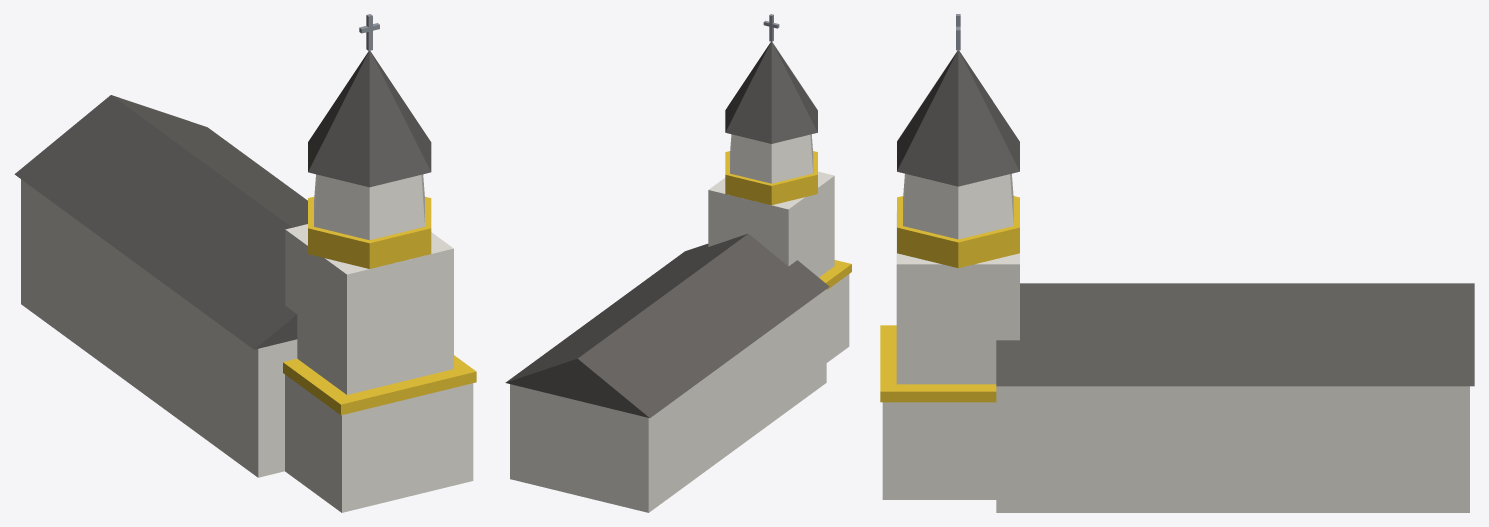
The model's file is iglesia_chilota.obj.
3 renders of one model, left to right at view 1: azimuth 30°, elevation 25°; view 2: azimuth 150°, elevation 25°; view 3: azimuth 270°, elevation 25°, orthographic. The views are drawn at different scales.
Visible parts, largest first — view 1: iglesia_chilota; view 2: iglesia_chilota; view 3: iglesia_chilota.
Boxes of the visible parts, box(x1,y1,x2,y2) form: iglesia_chilota: box(14, 14, 476, 512); iglesia_chilota: box(505, 14, 851, 512); iglesia_chilota: box(880, 14, 1474, 512).
Bounding box in the file's own units: 9.4 × 21.1 × 25.1.
